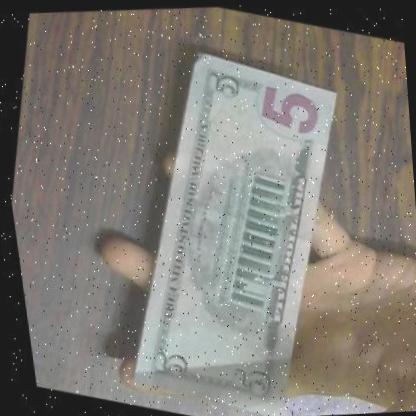five-back: (83, 28, 381, 416)
